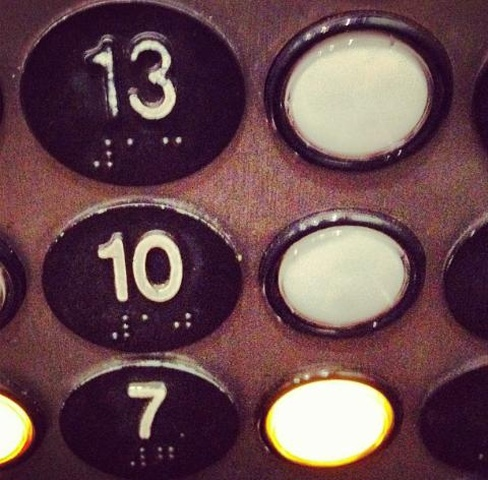10: (28, 189, 250, 356)
13: (11, 1, 255, 191)
7: (44, 354, 253, 480)
empty: (261, 3, 458, 176), (252, 201, 435, 342), (250, 357, 410, 473)
